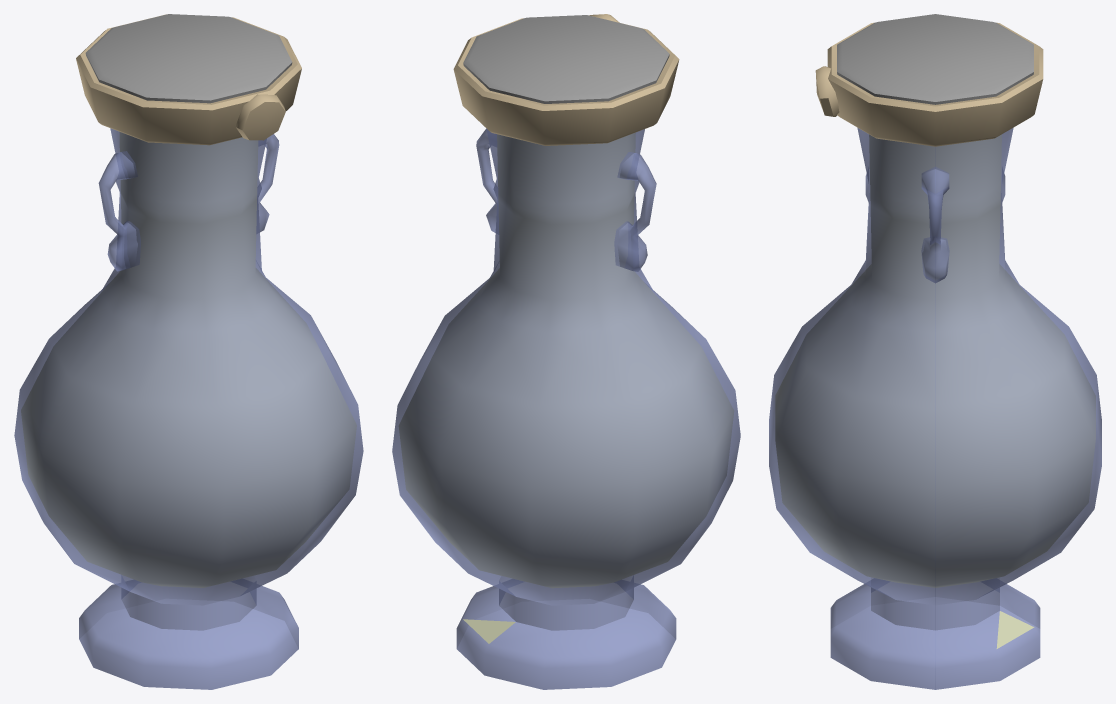
The model's file is ZSP0402.FBX.
3 views of the same model, side by side, from view 1: azimuth 30°, elevation 25°; view 2: azimuth 150°, elevation 25°; view 3: azimuth 270°, elevation 25° (orthographic).
Parts seen in each view (by area): view 1: ZSP0402; view 2: ZSP0402; view 3: ZSP0402.
Boxes of the visible parts, x1=… form: ZSP0402: x1=14, y1=14, x2=363, y2=689; ZSP0402: x1=392, y1=14, x2=740, y2=689; ZSP0402: x1=769, y1=14, x2=1101, y2=689.
Size of the model in its own units: 10.22 by 9.72 by 18.95.
